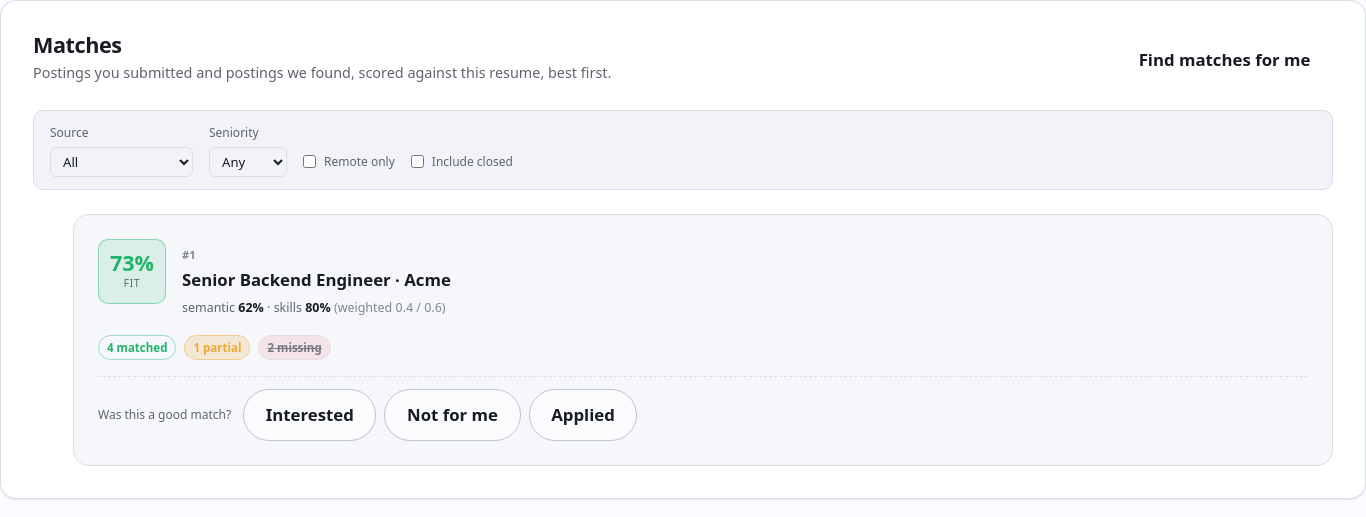
Test case: the filter bar › keeps filters in the query key so the list cannot contradict the controls
The image size is (1366, 517).
Check: the link "Senior Backend Engineer · Acme" is shown, box top-left (182, 268), bottom-right (451, 291)
Select "Submitted by me" in the dropdown labelled "Source" at point(122, 162), box top-left (50, 146), bottom-right (193, 176)
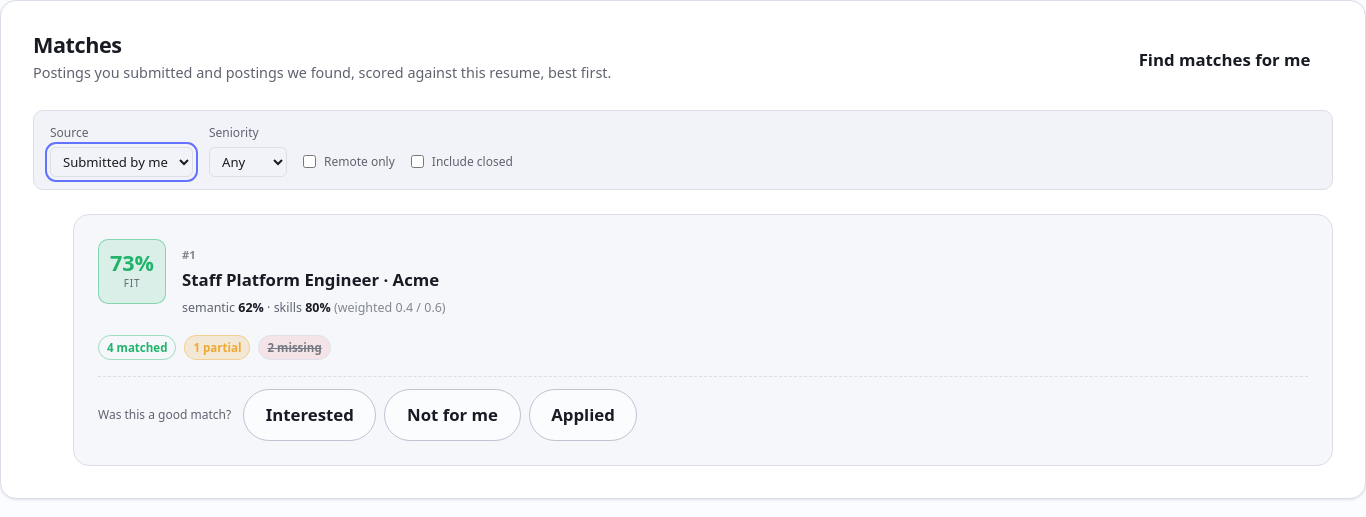
Check: the link "Staff Platform Engineer · Acme" is shown, box top-left (182, 268), bottom-right (439, 291)
